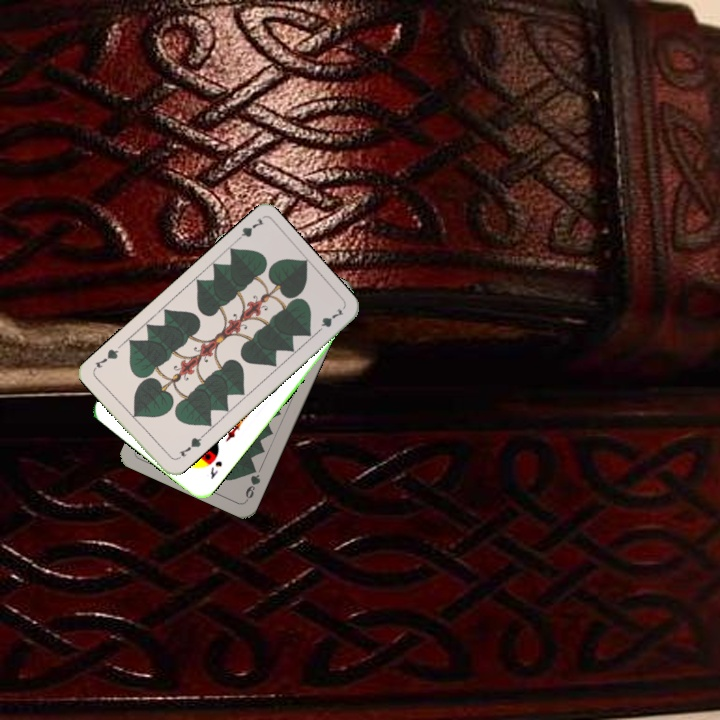G7: (230, 214, 267, 245), (171, 432, 205, 463)
G9: (241, 462, 263, 503)
SK: (206, 456, 225, 482)
